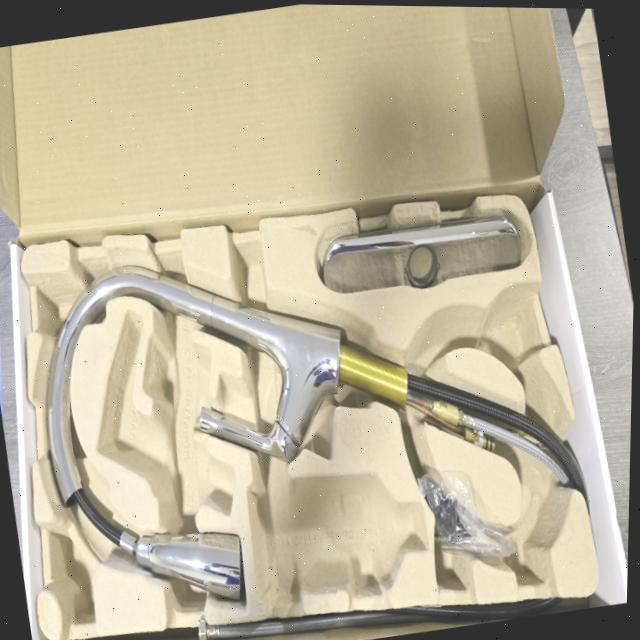1: (45, 266, 587, 598)
2m: (97, 313, 234, 514)
3m: (249, 469, 428, 598)
4: (323, 219, 522, 293)
5m: (480, 294, 533, 367)
6m: (514, 485, 560, 588)
7: (419, 472, 516, 557)
